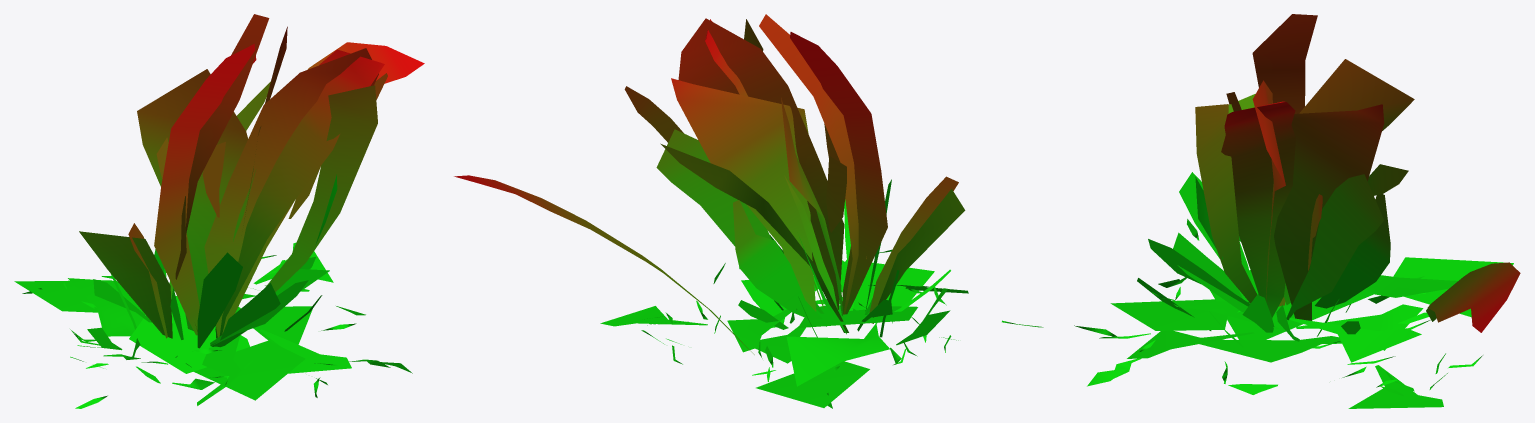
Rendered from Dead Shrubs_LOD2_Var7_vdknafgha.fbx.
3 views of the same model, side by side, from view 1: azimuth 30°, elevation 25°; view 2: azimuth 150°, elevation 25°; view 3: azimuth 270°, elevation 25° (orthographic). The views are drawn at different scales.
Visible parts, largest first — view 1: _2jvt_Var7_LOD2; view 2: _2jvt_Var7_LOD2; view 3: _2jvt_Var7_LOD2.
Part boxes in pixels (x1=…): _2jvt_Var7_LOD2: x1=14, y1=14, x2=424, y2=408; _2jvt_Var7_LOD2: x1=454, y1=14, x2=1043, y2=408; _2jvt_Var7_LOD2: x1=1074, y1=14, x2=1520, y2=408.
Size of the model in its own units: 92.46 by 56.57 by 65.76.
